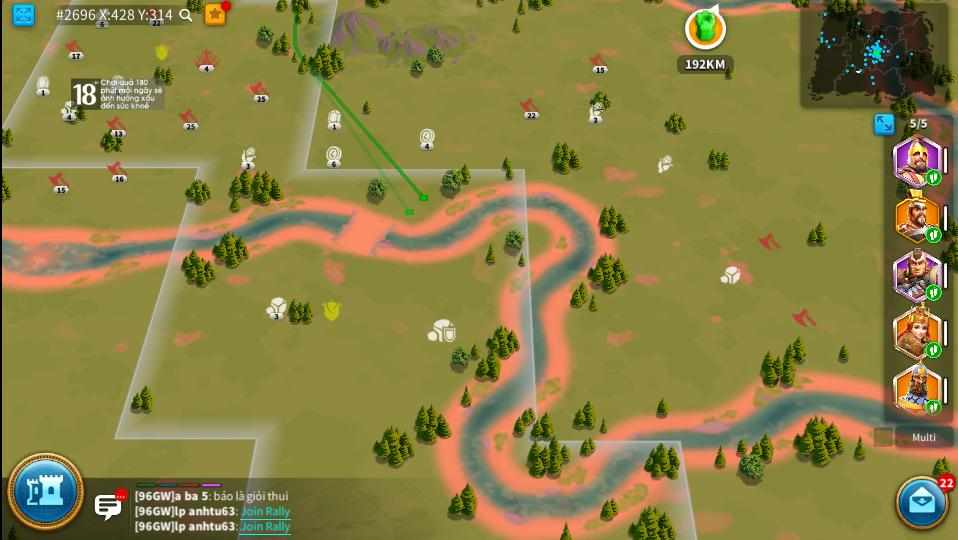gem-z-out: (36, 75, 51, 96), (326, 109, 341, 129)
march_marching: (925, 228, 942, 242), (926, 170, 940, 185), (927, 400, 941, 415), (926, 285, 940, 299), (928, 343, 940, 357)
